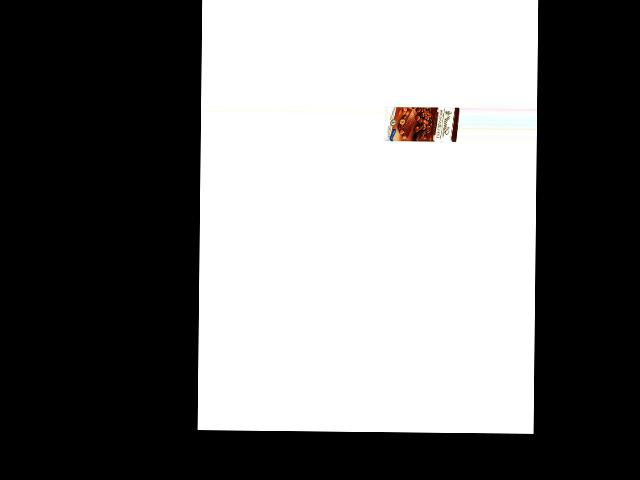chocolate: (388, 101, 457, 144)
